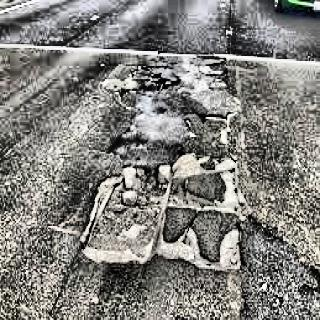pothole: (82, 152, 242, 269), (104, 60, 240, 129)
